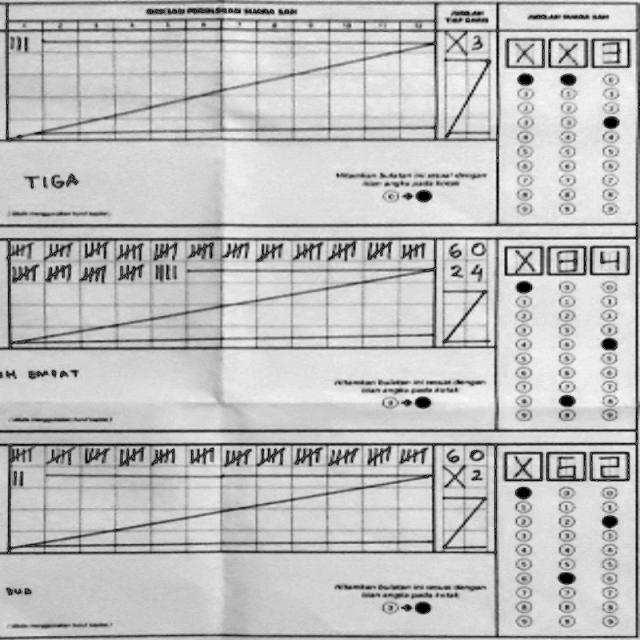Suara: (499, 238, 632, 278), (498, 446, 632, 484), (502, 31, 630, 69)
